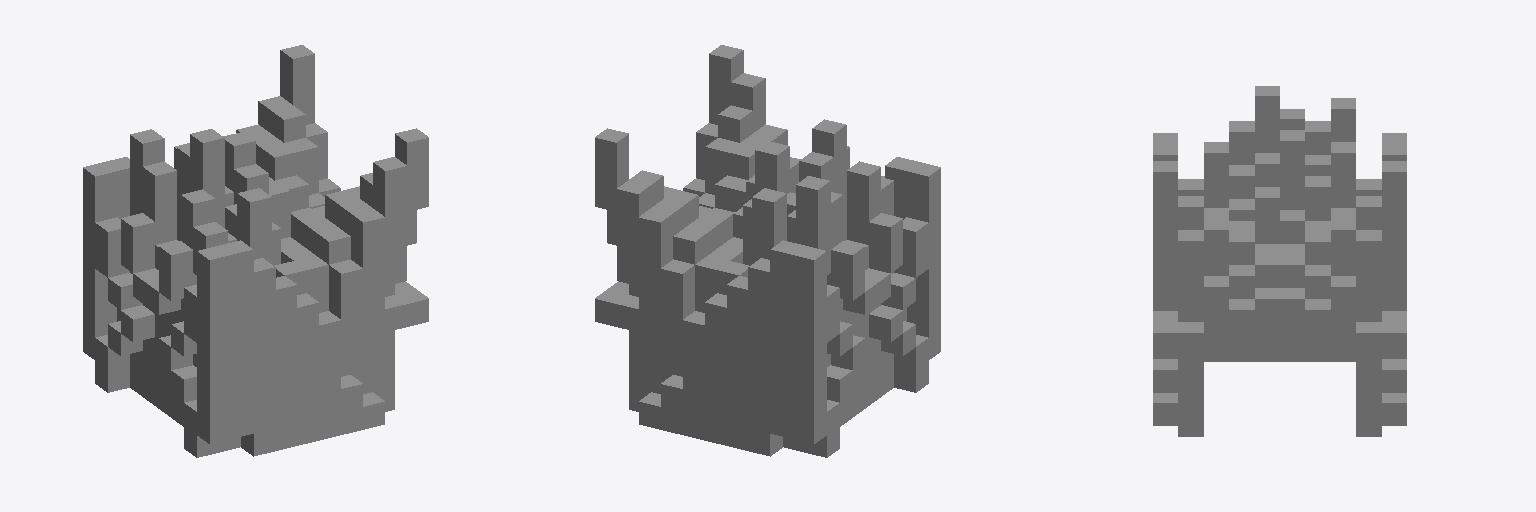
The model's file is potato_helmet.obj.
3 views of the same model, side by side, from view 1: azimuth 30°, elevation 25°; view 2: azimuth 150°, elevation 25°; view 3: azimuth 270°, elevation 25° (orthographic).
Visible parts, largest first — view 1: potato_helmet; view 2: potato_helmet; view 3: potato_helmet.
Part boxes in pixels (x1,y1,x2,y2): potato_helmet: (83, 45, 428, 457); potato_helmet: (595, 45, 940, 457); potato_helmet: (1153, 86, 1406, 436).
Bounding box in the file's own units: 10 × 12 × 10.